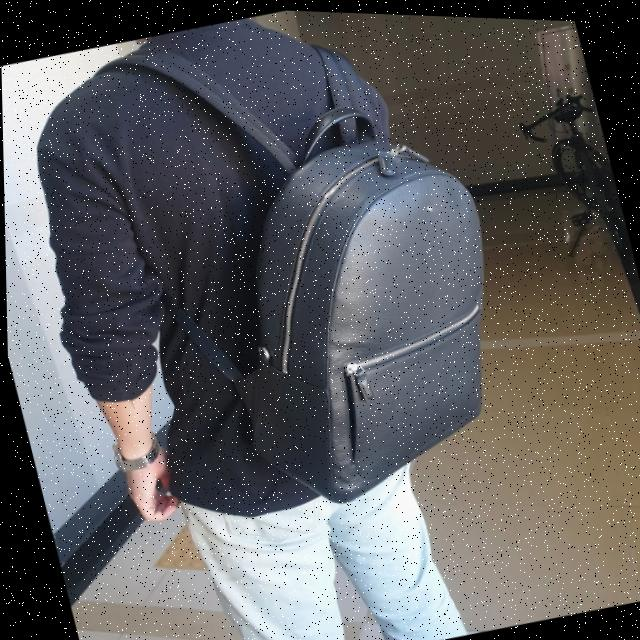backpack: (150, 77, 557, 538)
